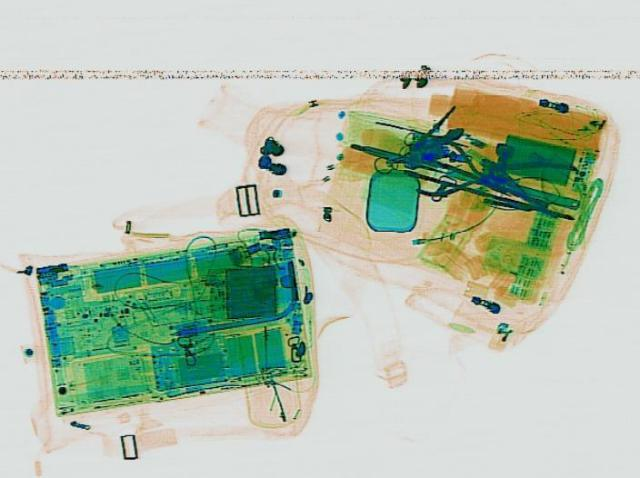Pliers: (467, 136, 608, 222), (412, 138, 522, 208)
